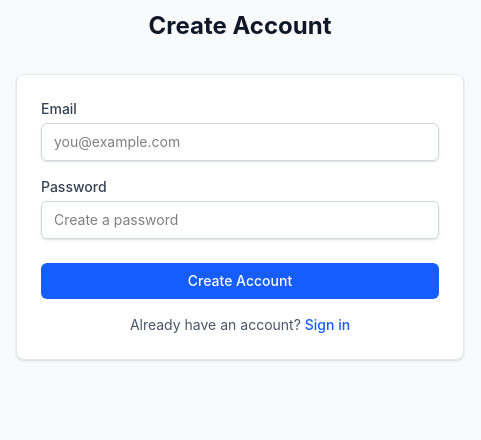
it: RegisterPage › shows an error banner on network failure
The width and height of the screenshot is (481, 440).
Type "a@b.com" into the field labelled "Email".
click(240, 142); type("a@b.com")  # box [41,123,439,161]
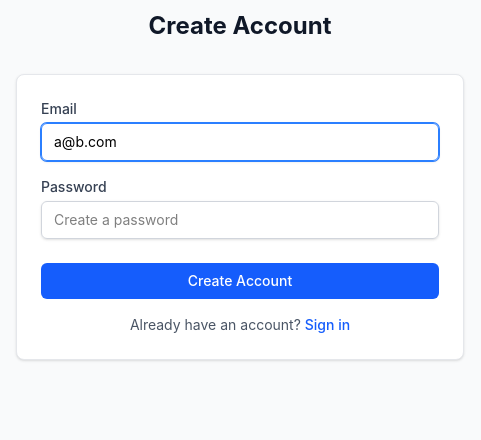
Type "pwd123" into the password field labelled "Password".
click(240, 220); type("pwd123")  # box [41,201,439,239]
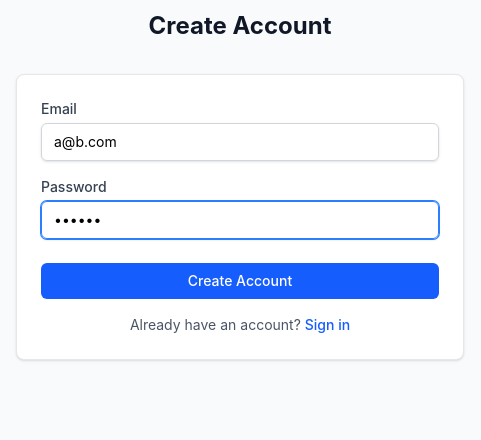
Click the button "Create Account".
click(240, 281)  # box [41,263,439,299]
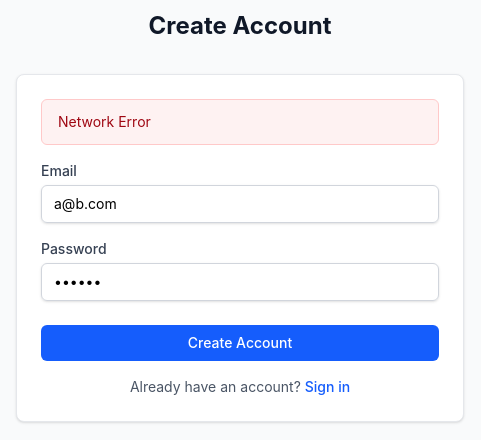
Expected: the text "Network Error" is shown, [41,99,439,145]
